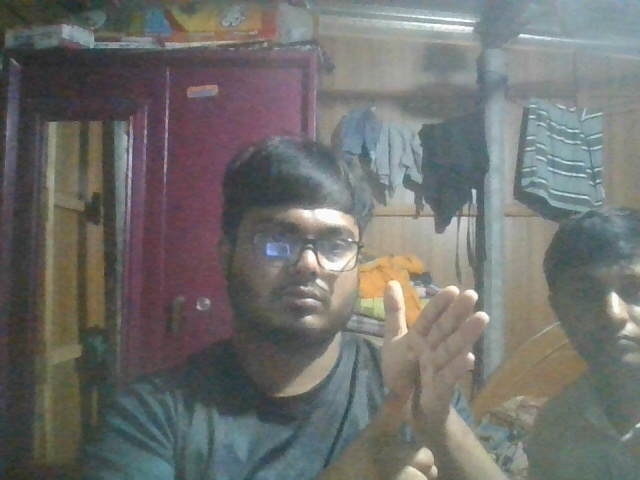r: (350, 275, 520, 477)
